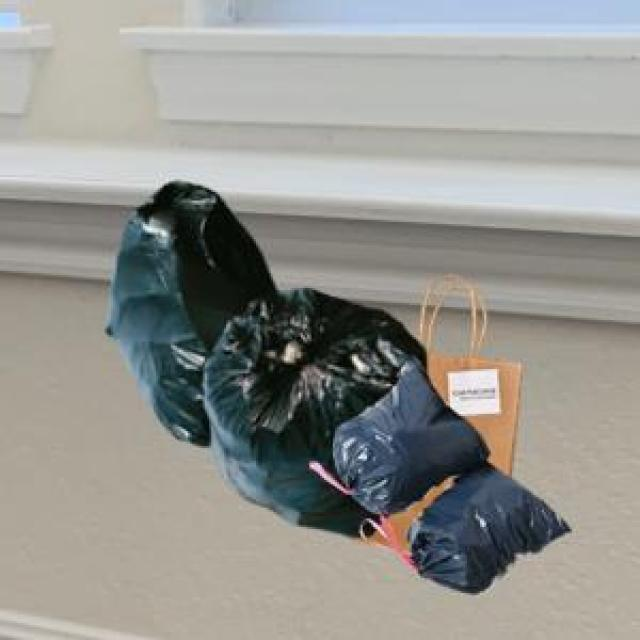miscellaneous trash: (102, 177, 421, 533), (307, 352, 565, 589)
paper: (346, 282, 516, 546)
